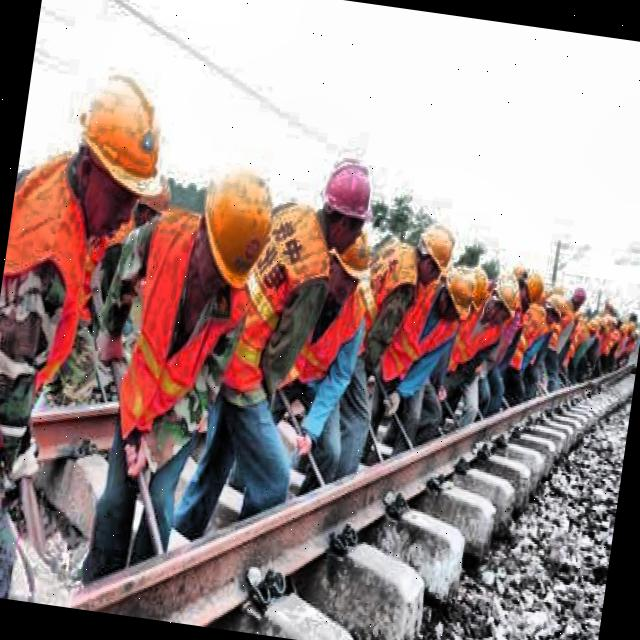helmet: (55, 56, 183, 253), (185, 154, 289, 310), (309, 149, 382, 266), (318, 228, 372, 312), (411, 213, 463, 296), (124, 167, 180, 244), (478, 264, 524, 334), (434, 264, 480, 328), (460, 258, 498, 320), (538, 285, 572, 334), (518, 270, 549, 315)
